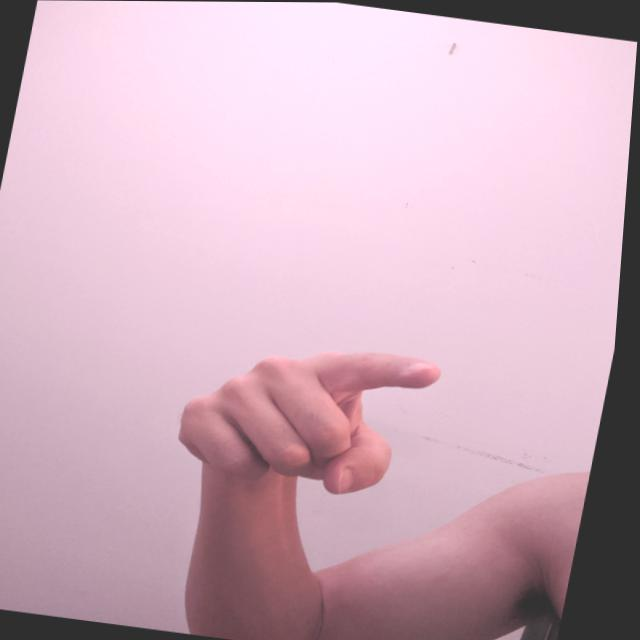Z: (168, 322, 459, 510)
